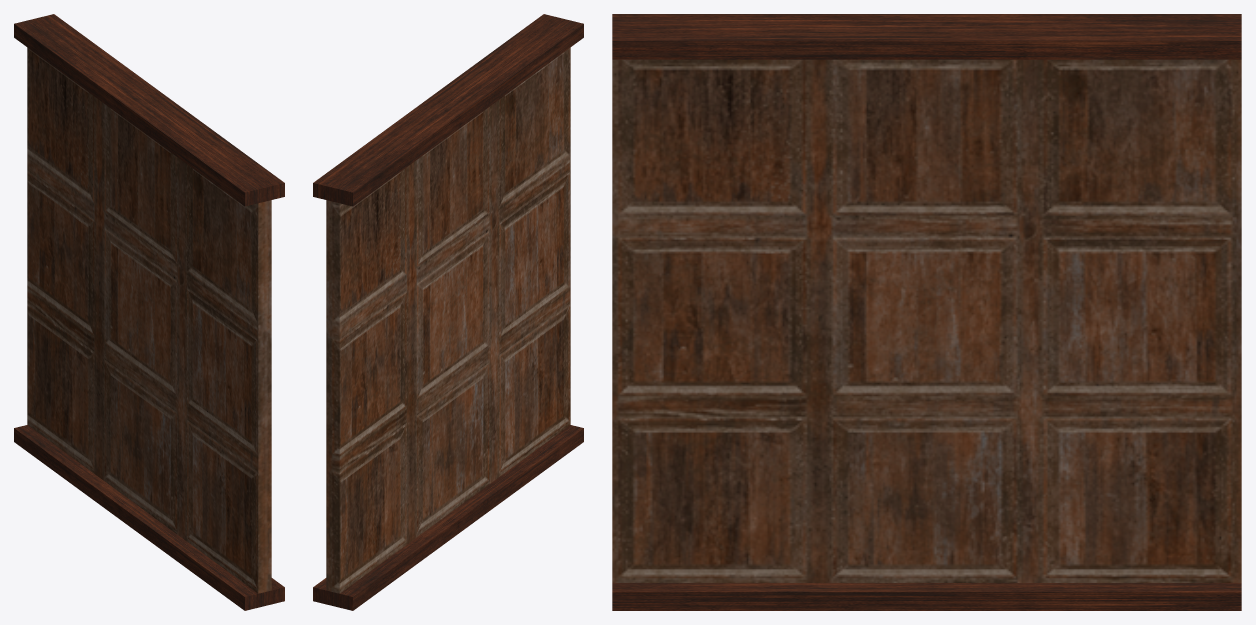
Rendered from Middlewall_final.fbx.
3 views of the same model, side by side, from view 1: azimuth 30°, elevation 25°; view 2: azimuth 150°, elevation 25°; view 3: azimuth 270°, elevation 25° (orthographic). The views are drawn at different scales.
Visible parts, largest first — view 1: polySurface3; view 2: polySurface3; view 3: polySurface3.
Part boxes in pixels (x1,y1,x2,y2): polySurface3: (14,14,284,610); polySurface3: (313,14,583,610); polySurface3: (612,14,1241,610).
Size of the model in its own units: 30 by 300 by 300.
